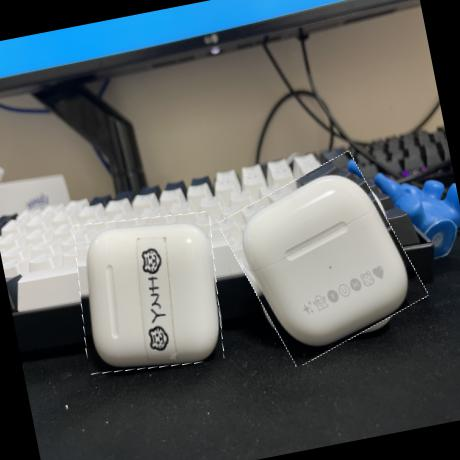airpod2: (64, 202, 233, 381)
airpod3: (220, 152, 424, 365)
